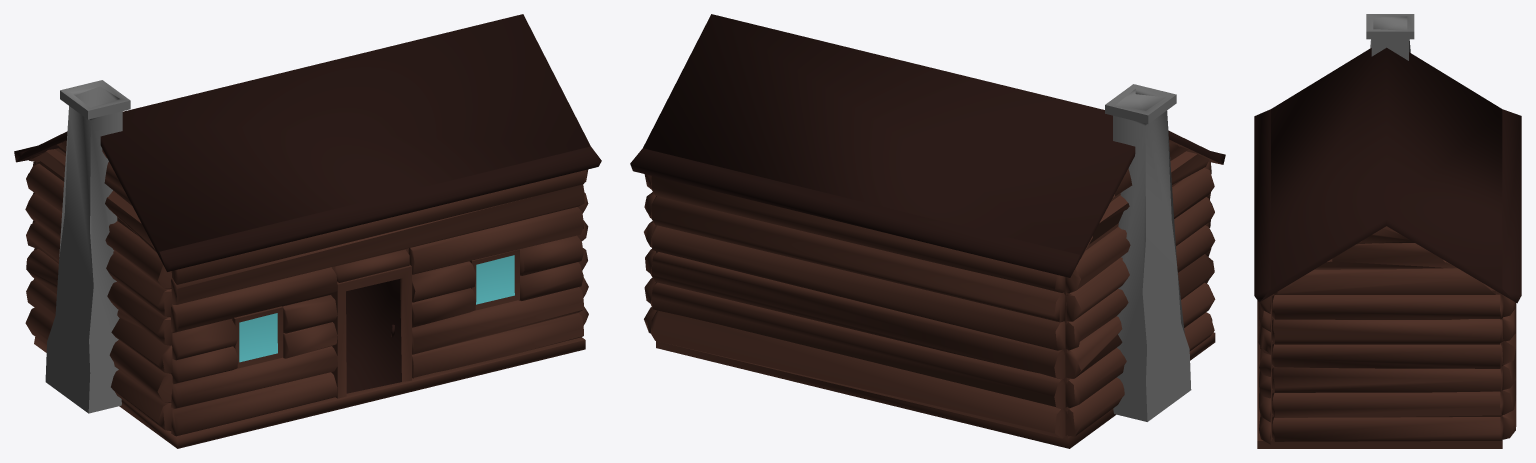
Rendered from spawningcabin.fbx.
3 renders of one model, left to right at view 1: azimuth 30°, elevation 25°; view 2: azimuth 150°, elevation 25°; view 3: azimuth 270°, elevation 25°, orthographic. The views are drawn at different scales.
Visible parts, largest first — view 1: Cube; view 2: Cube; view 3: Cube.
Part boxes in pixels (x1=…): Cube: x1=14, y1=14, x2=601, y2=448; Cube: x1=630, y1=14, x2=1225, y2=448; Cube: x1=1254, y1=14, x2=1521, y2=448.
Bounding box in the file's own units: 627 × 392 × 373.
